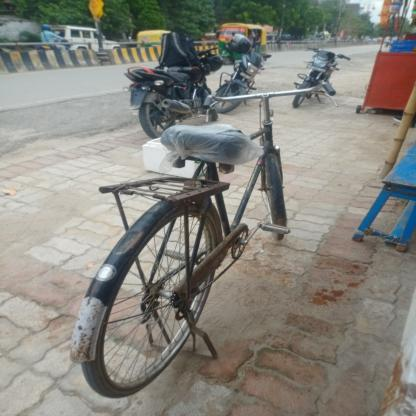bike: (36, 77, 369, 408)
